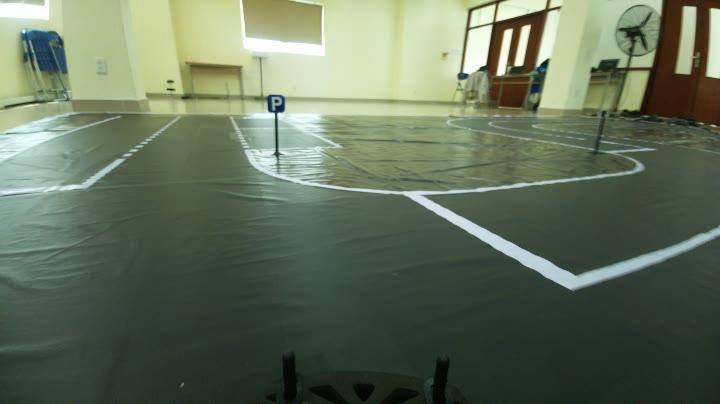parking: (263, 90, 293, 120)
